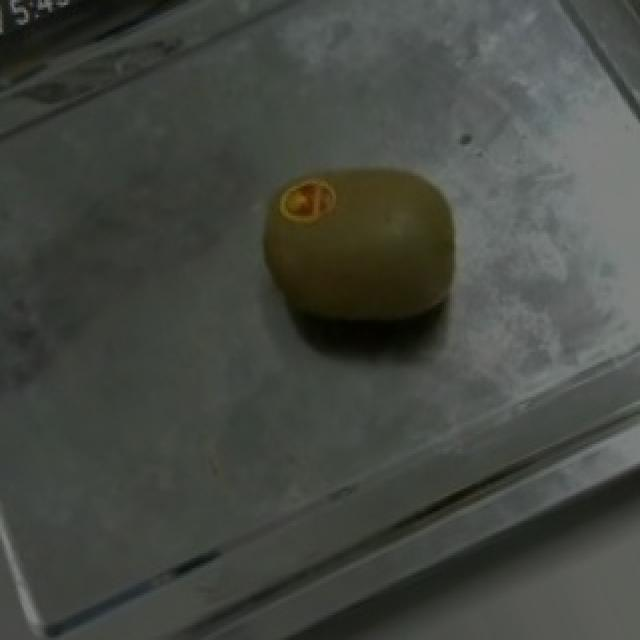Fruit: (222, 131, 494, 387)
